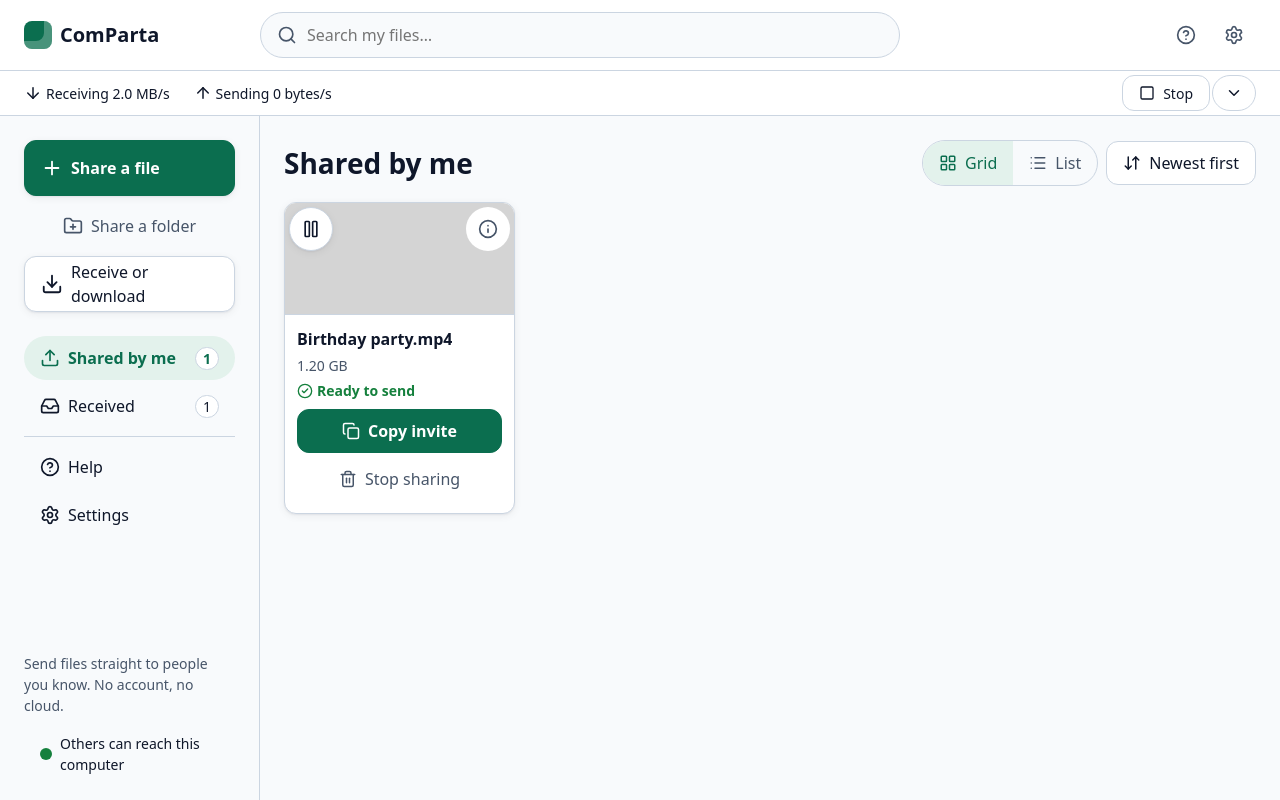
Scenario: the speed bar › stops sending and receiving with one press, and Continue starts both again
Click the button "Stop". click: click(1166, 93)
box: 1122,75 -> 1210,111
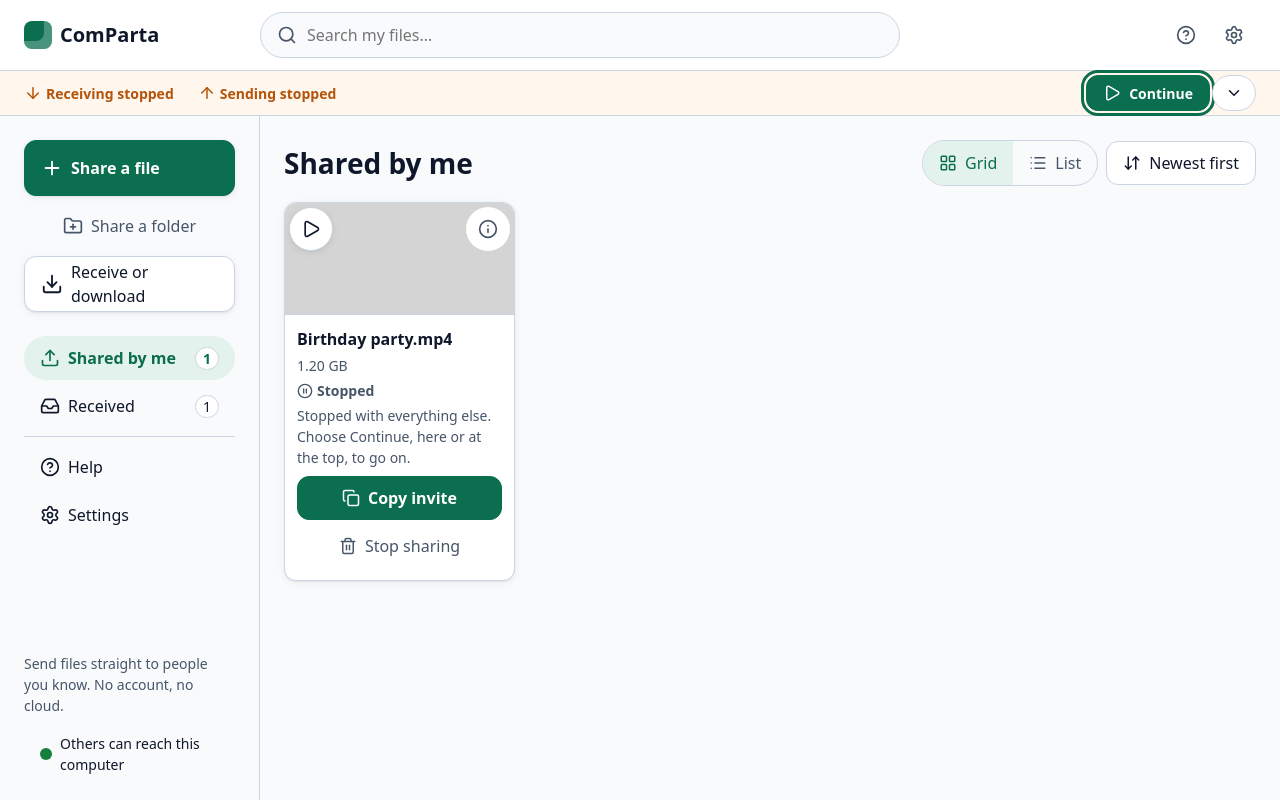
Now the text "Receiving stopped" is shown, box 46,82 -> 174,104
Now the text "Sending stopped" is shown, box 220,82 -> 336,104
Now the text "Stopped with everything else. Choose Continue, here or at the top, to go on." is shown, box 297,405 -> 502,468
Click the button "Continue". click: click(1148, 93)
box: 1086,75 -> 1210,111
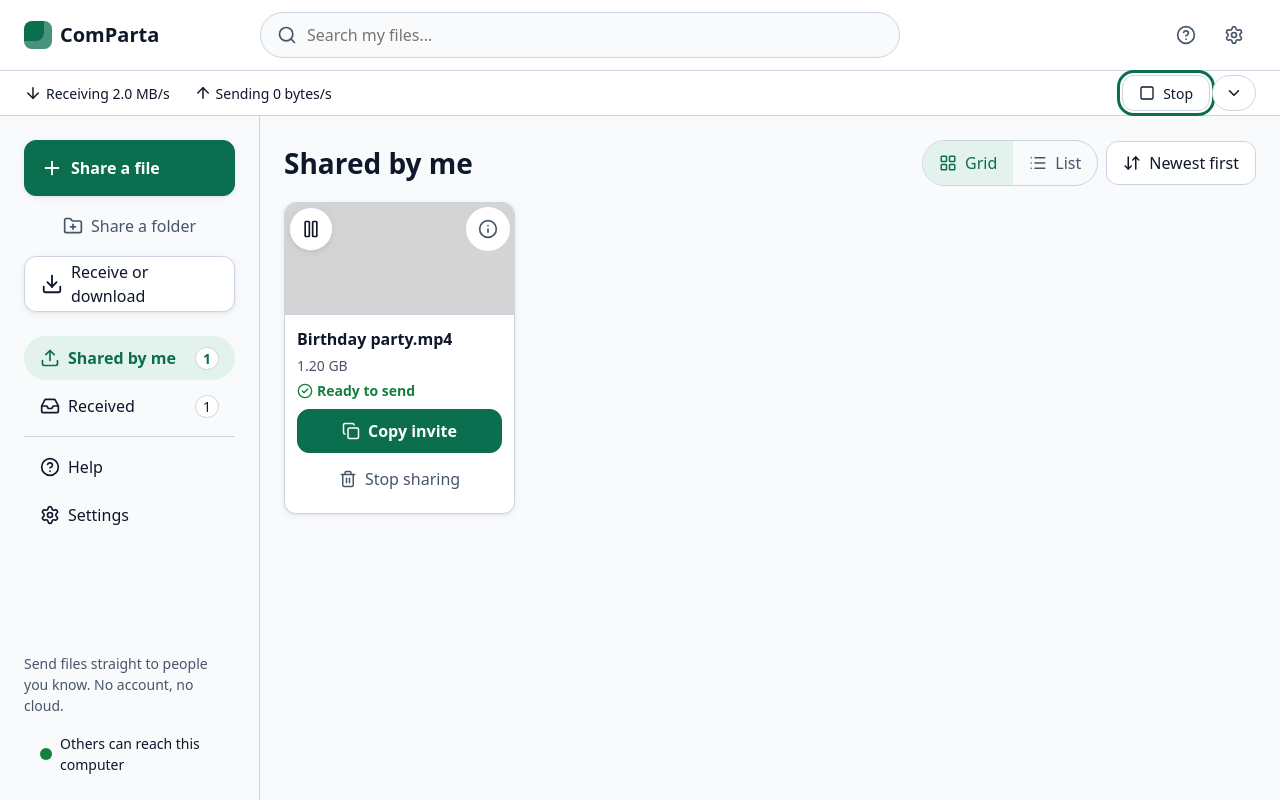
Now the text "Receiving stopped" is gone
Now the button "Stop" is shown, box 1122,75 -> 1210,111
